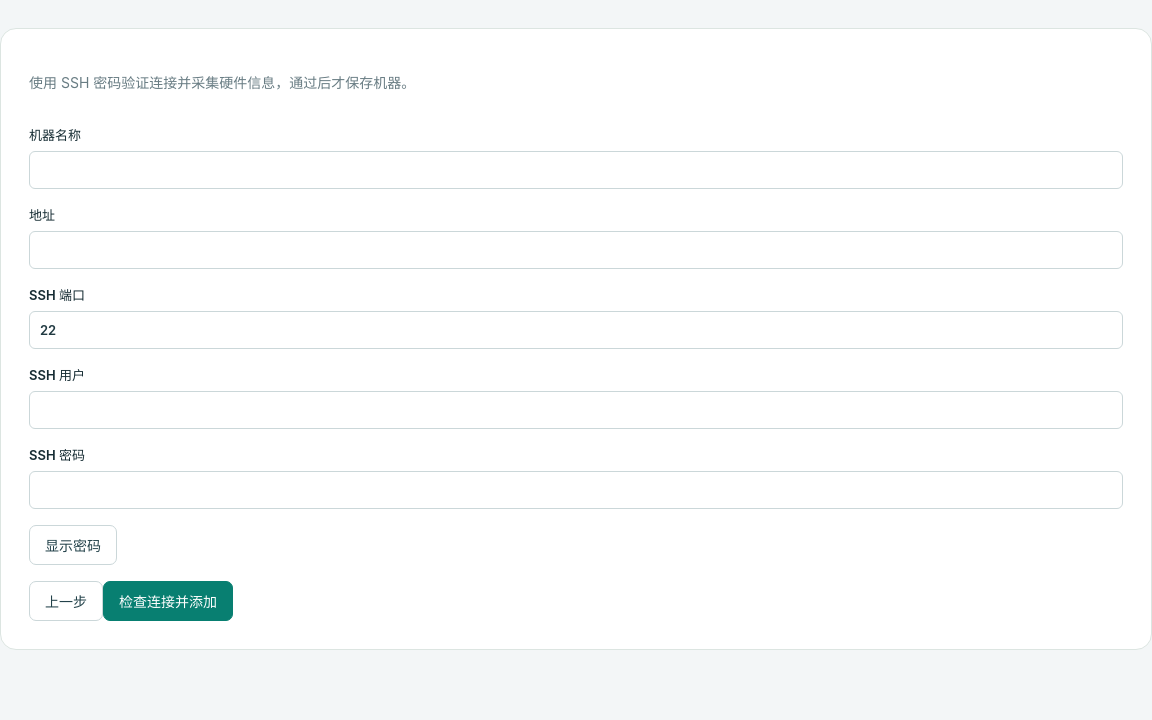
Test: submits exactly five fields preserving password whitespace
In the field labelled "机器名称": (576, 170) [29, 151, 1123, 189], type "node-1"
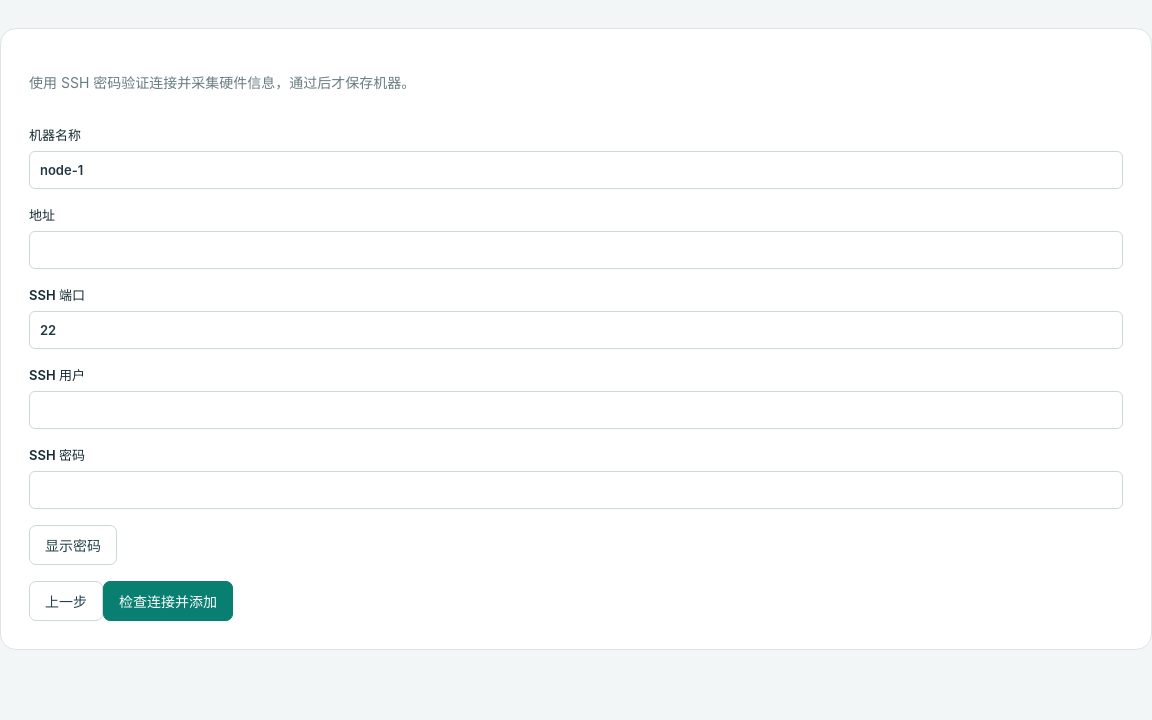
In the field labelled "地址": (576, 250) [29, 231, 1123, 269], type "10.0.0.1"
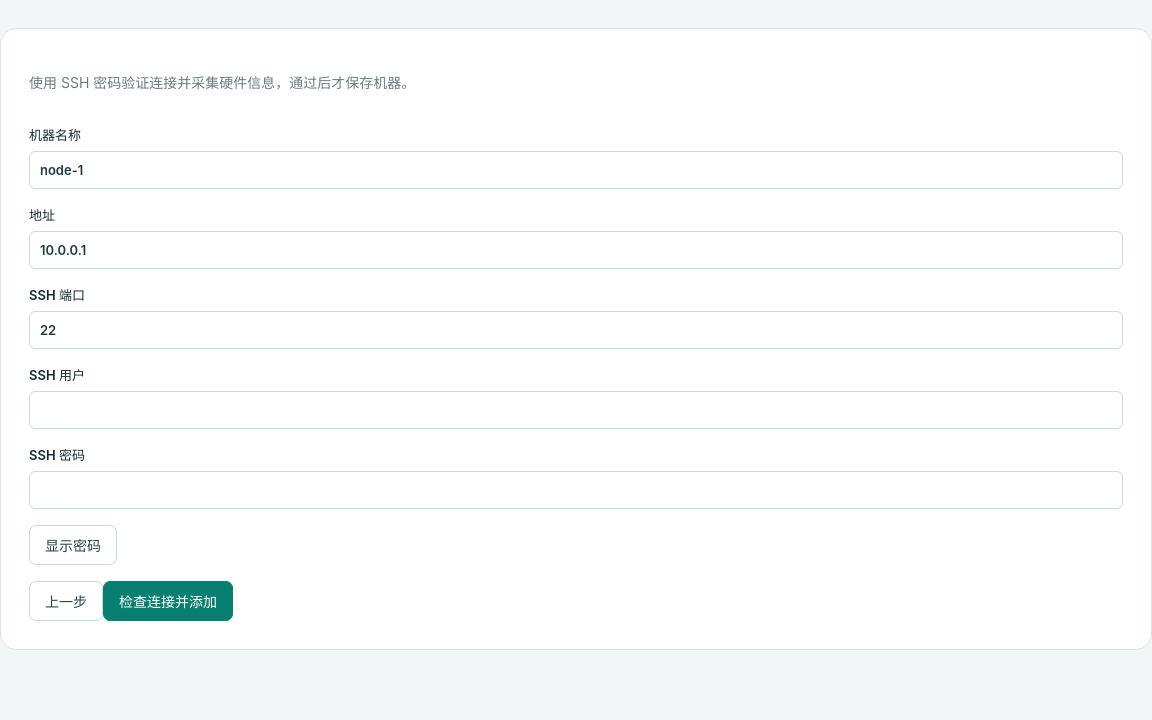
In the field labelled "SSH 用户": (576, 410) [29, 391, 1123, 429], type "jenkins"
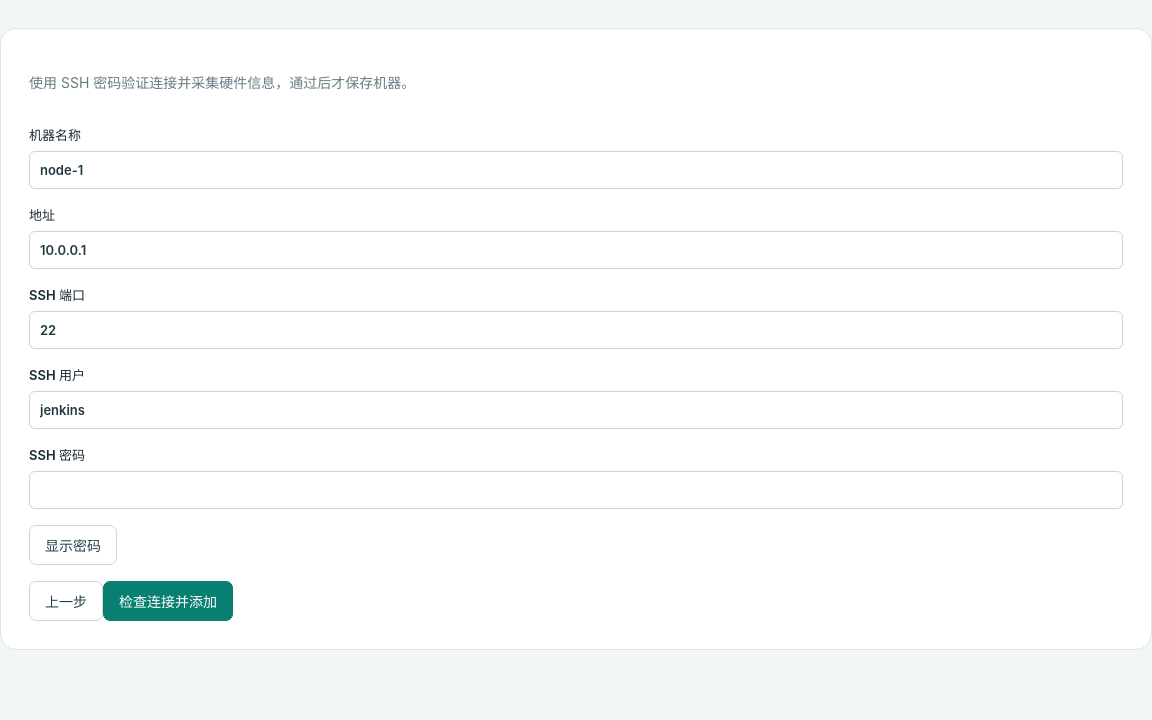
In the password field labelled "SSH 密码": (576, 490) [29, 471, 1123, 509], type "  keep me  "
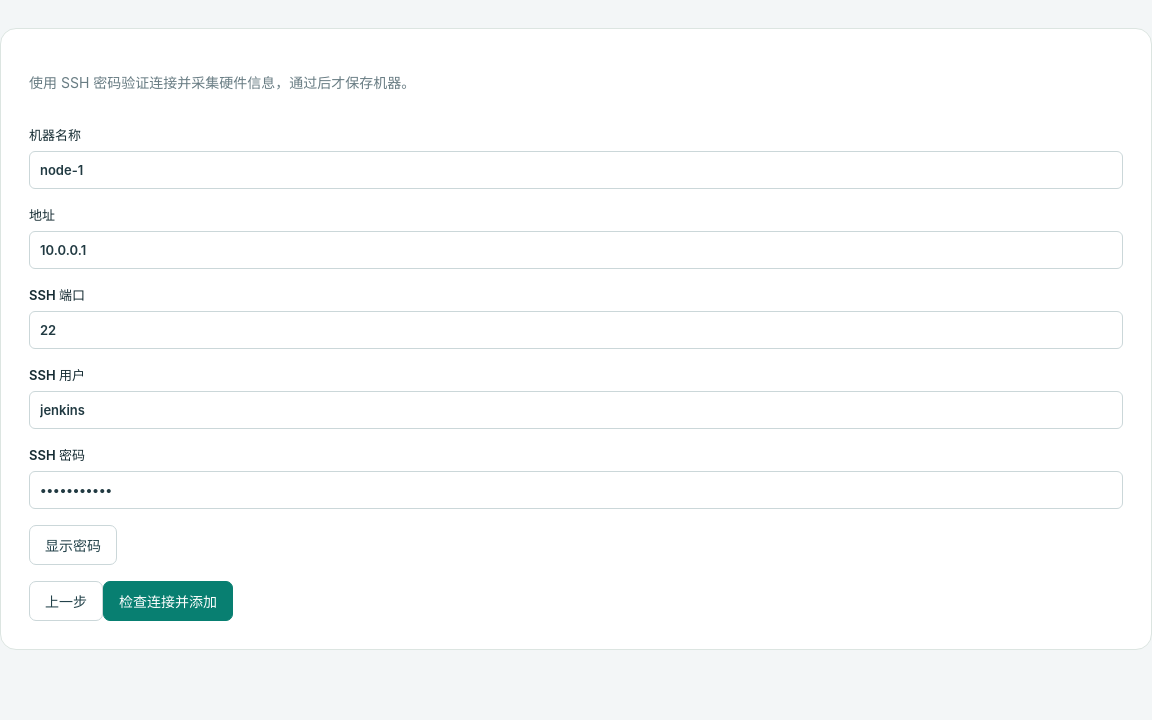
Click the button "检查连接并添加": (168, 601) [103, 581, 233, 621]
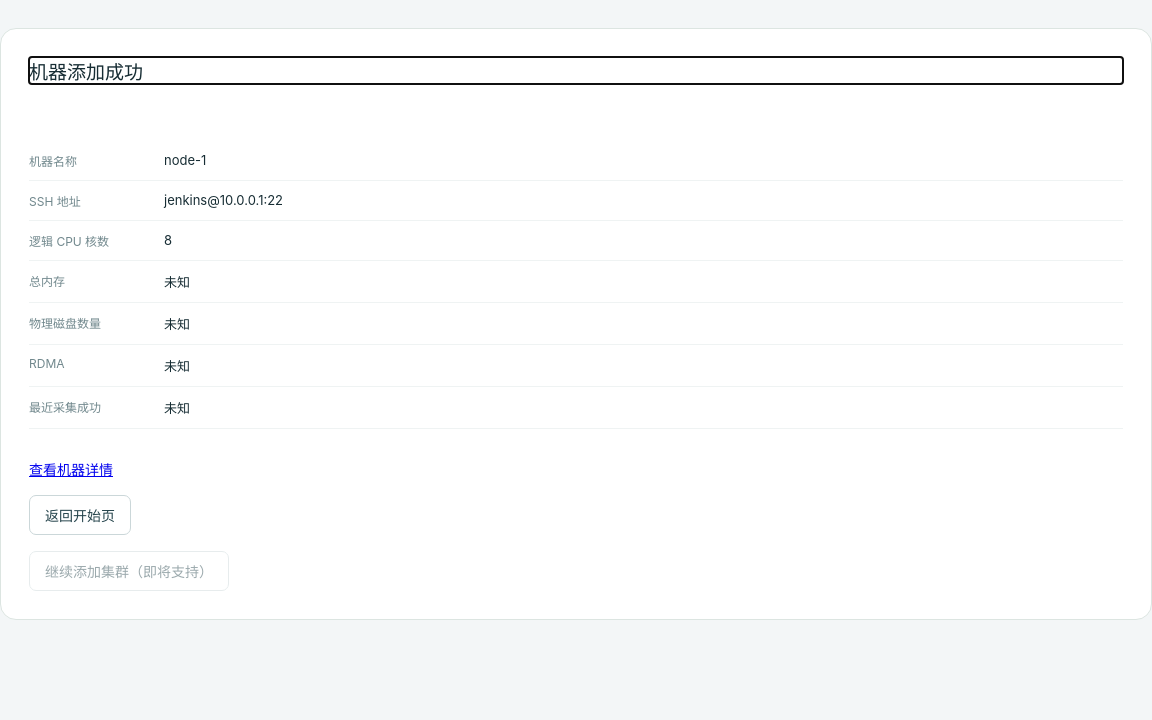
Expected: the heading "机器添加成功" is shown, [29, 61, 143, 84]
Expected: the text "8" is shown, [164, 232, 172, 248]
